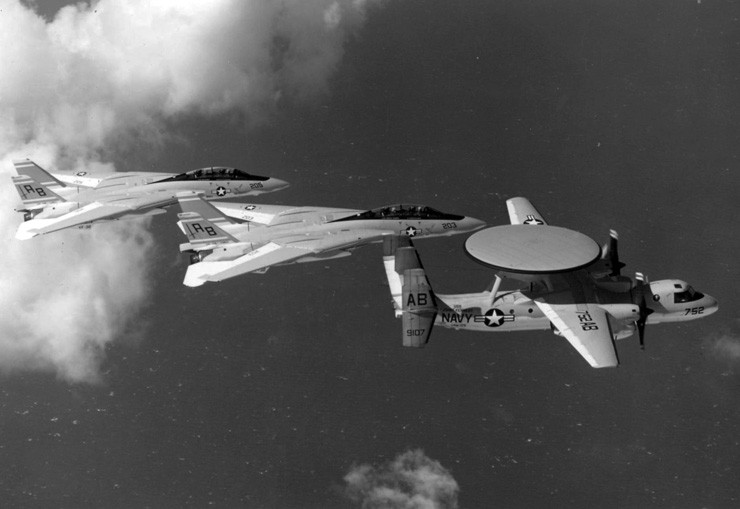E2: (381, 195, 719, 369)
F14: (176, 189, 488, 288), (10, 156, 291, 241)
